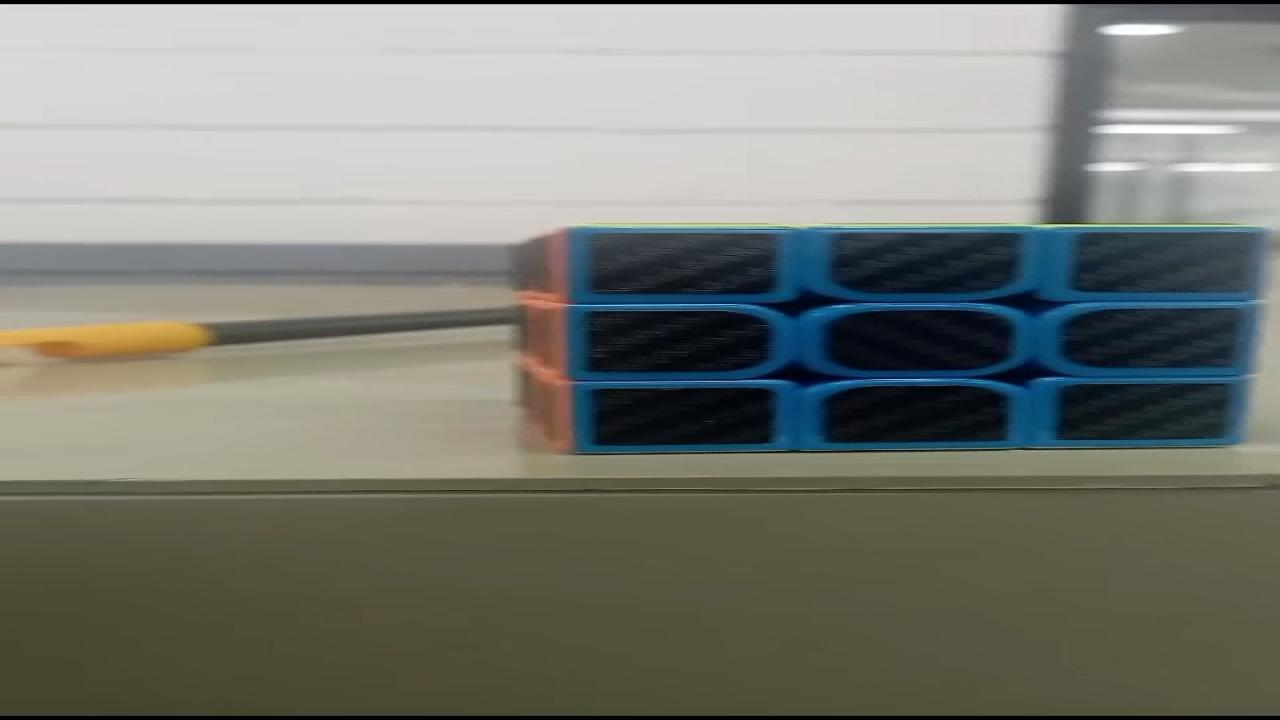Cube: (504, 221, 1269, 455)
